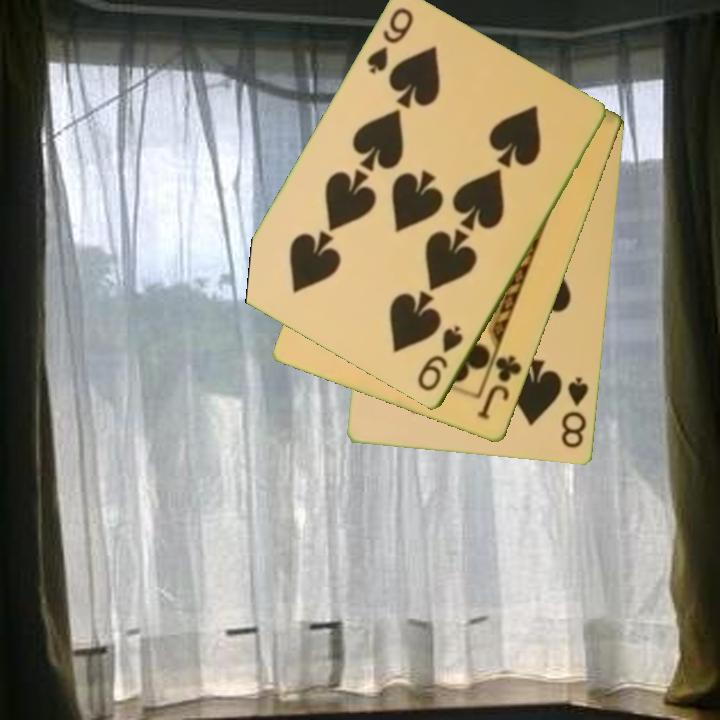8s: (558, 374, 592, 451)
9s: (363, 4, 417, 78), (414, 322, 467, 395)
Jc: (473, 352, 525, 424)
